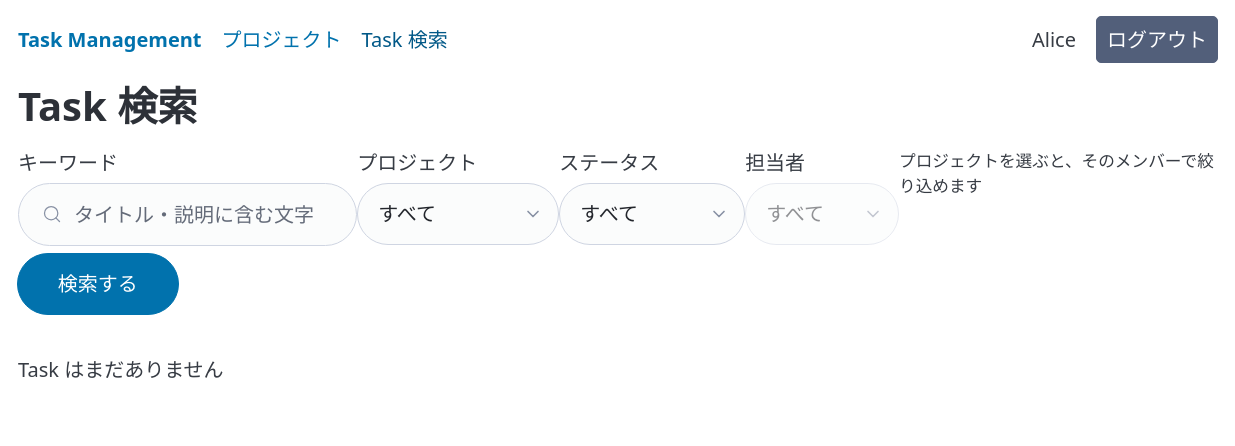
Test: Task 検索 › 検索中のキーワードを表示する
This screenshot has width=1235, height=446.
Expected: the text "Task はまだありません" is shown, [18,356,224,383]
In the search field labelled "キーワード": x=188, y=214 [18,183,357,246], type "設計"
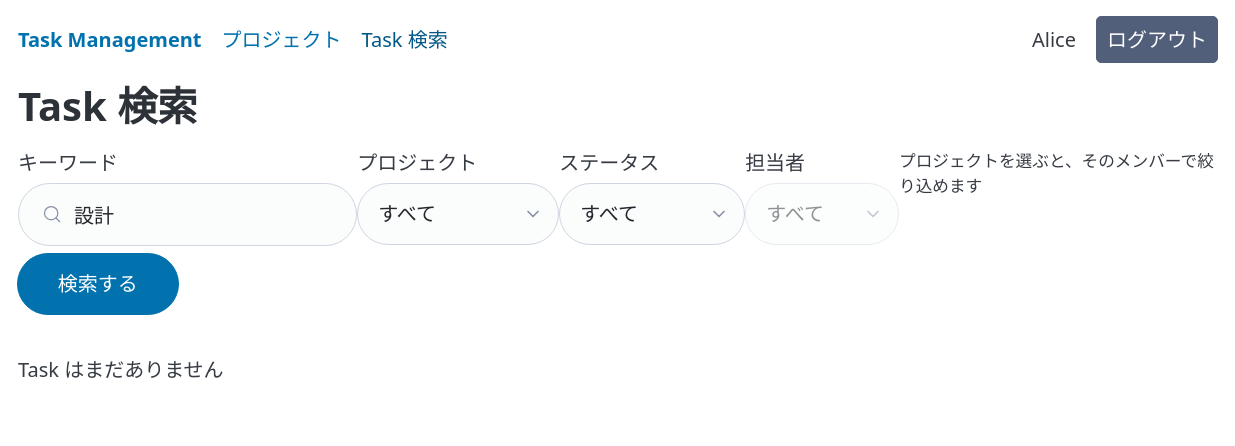
Click the button "検索する": x=98, y=284 [17,253,179,315]
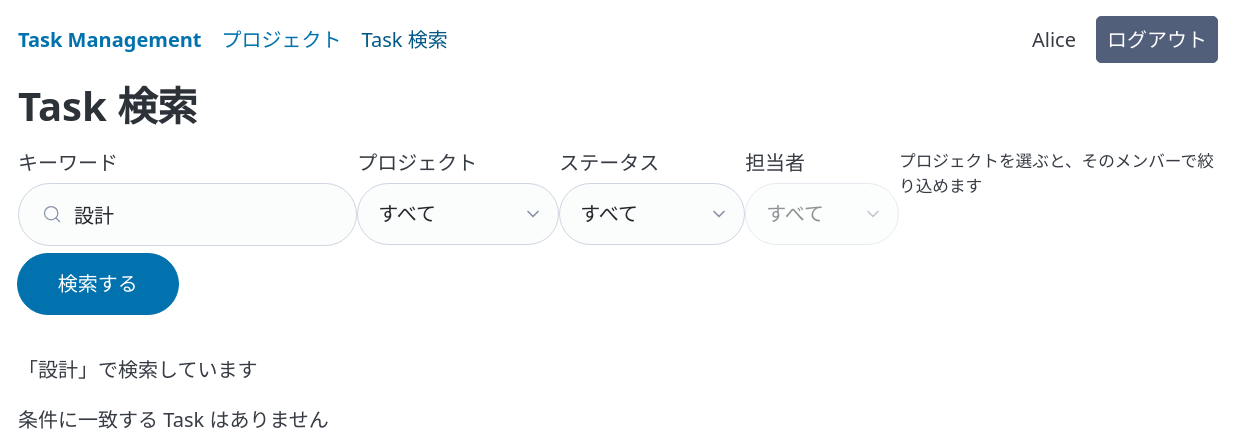
Result: the text "「設計」で検索しています" is shown at [18,356,257,383]
